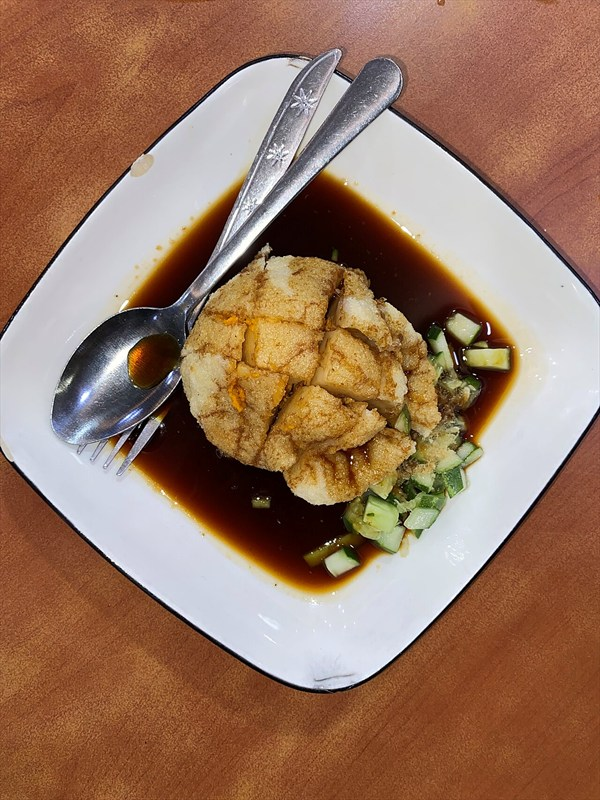Pempek: (61, 99, 527, 668)
